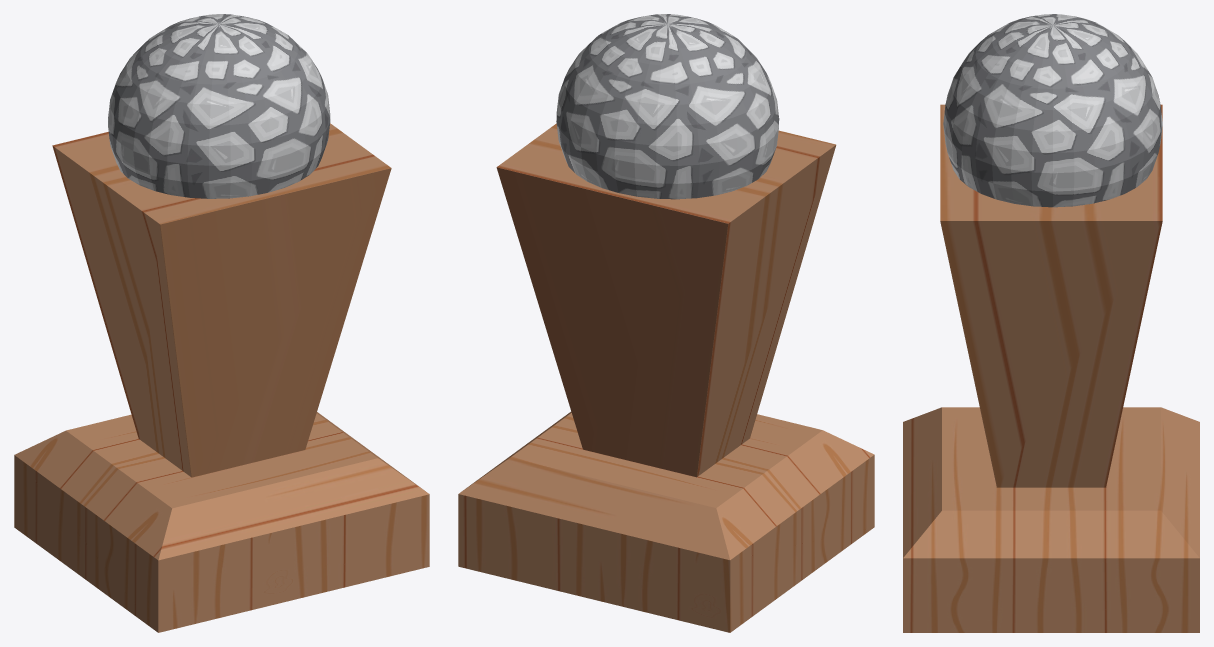
File: ChessPieceRook.fbx
The picture shows the model from 3 angles, left to right: view 1: azimuth 30°, elevation 25°; view 2: azimuth 150°, elevation 25°; view 3: azimuth 270°, elevation 25°; orthographic projection. The views are drawn at different scales.
Visible parts, largest first — view 1: Cube; view 2: Cube; view 3: Cube.
Part boxes in pixels (box(x1,y1,x2,y2)): Cube: box(14, 14, 429, 632); Cube: box(458, 14, 874, 632); Cube: box(903, 14, 1199, 632).
Size of the model in its own units: 298 by 549 by 274.
Materials: 2 (2 with a texture image).
